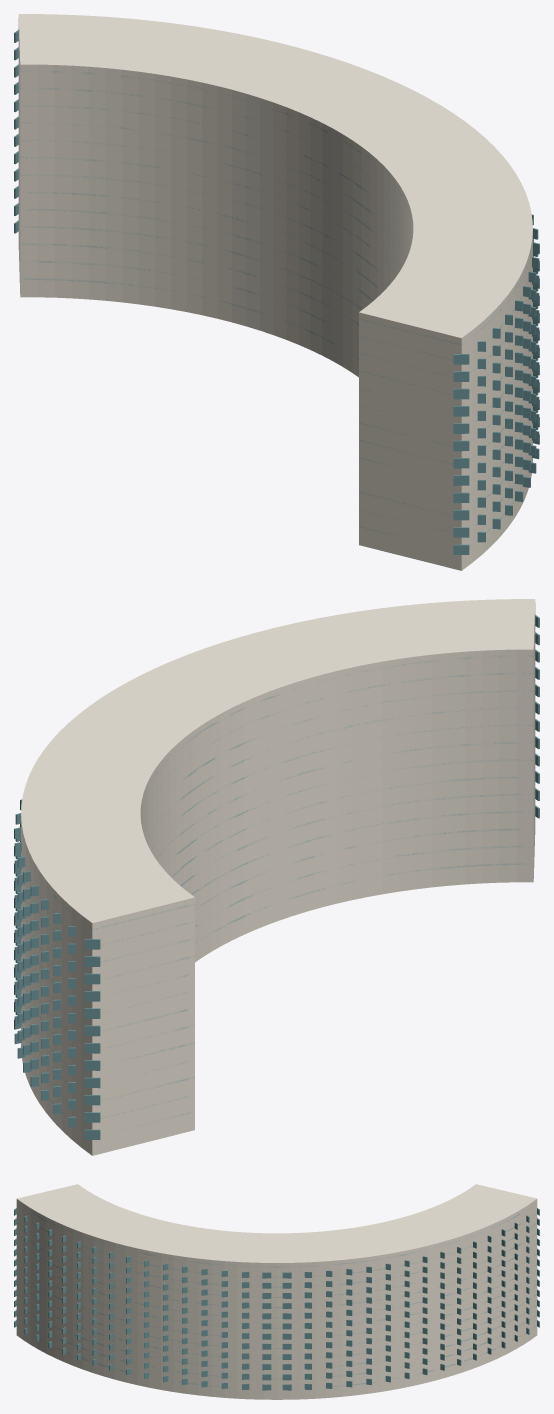
Rendered from fontainebleau.glb.
The picture shows the model from 3 angles, top to bottom: view 1: azimuth 30°, elevation 25°; view 2: azimuth 150°, elevation 25°; view 3: azimuth 270°, elevation 25°; orthographic projection. The views are drawn at different scales.
Parts seen in each view (by area): view 1: Interpretive Fontainebleau curved wing; view 2: Interpretive Fontainebleau curved wing; view 3: Interpretive Fontainebleau curved wing.
Part boxes in pixels (<box>): Interpretive Fontainebleau curved wing: <box>14,14,539,570</box>; Interpretive Fontainebleau curved wing: <box>14,599,539,1155</box>; Interpretive Fontainebleau curved wing: <box>14,1184,539,1399</box>.
Size of the model in its own units: 53.37 by 43 by 150.
